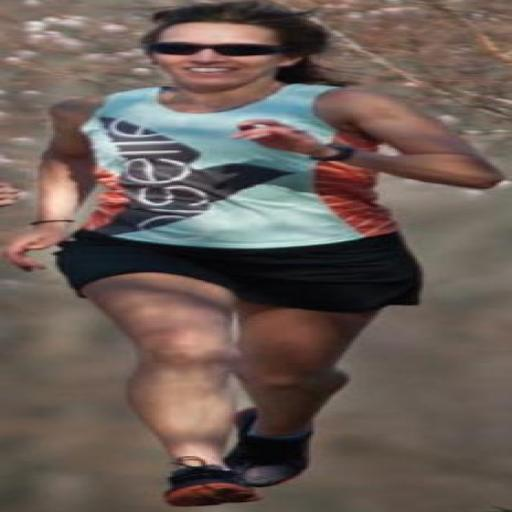person: (7, 0, 500, 506), (0, 182, 22, 206)
